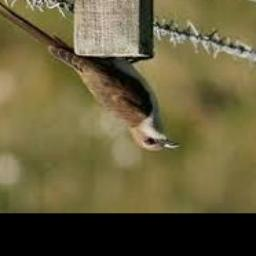Cuckoo: (0, 0, 180, 151)
